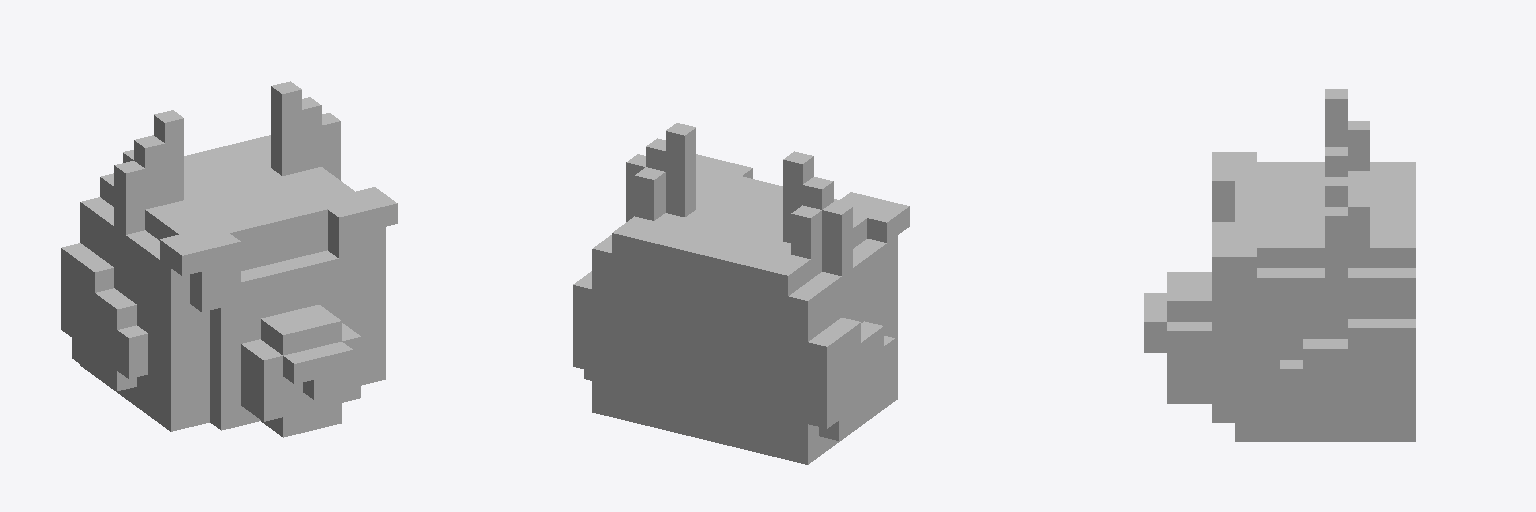
File: wolfhead.obj
3 renders of one model, left to right at view 1: azimuth 30°, elevation 25°; view 2: azimuth 150°, elevation 25°; view 3: azimuth 270°, elevation 25°, orthographic.
Visible parts, largest first — view 1: Wolf.001; view 2: Wolf.001; view 3: Wolf.001.
Boxes of the visible parts, box(x1,y1,x2,y2) form: Wolf.001: box(61, 81, 397, 437); Wolf.001: box(573, 123, 909, 464); Wolf.001: box(1144, 89, 1415, 441).
Size of the model in its own units: 13 by 13 by 12.